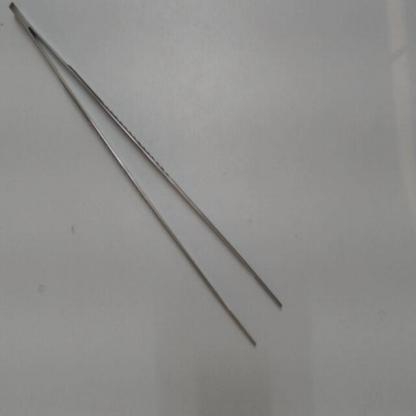DeBakey Dissector: (3, 1, 310, 353)
